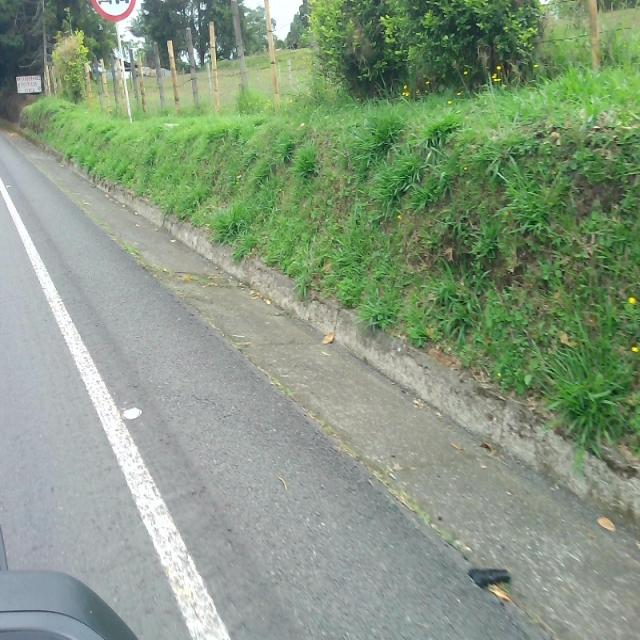DITCH: (2, 124, 638, 638)
